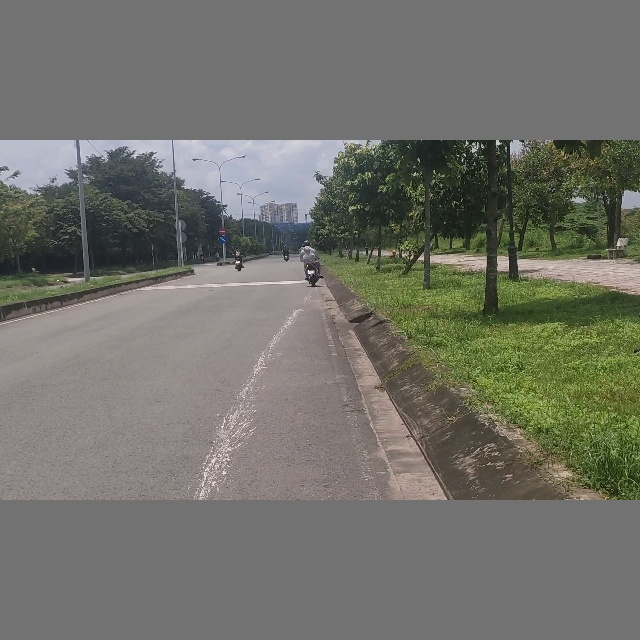P.102: (219, 227, 226, 235)
R.302a: (219, 236, 227, 243)
